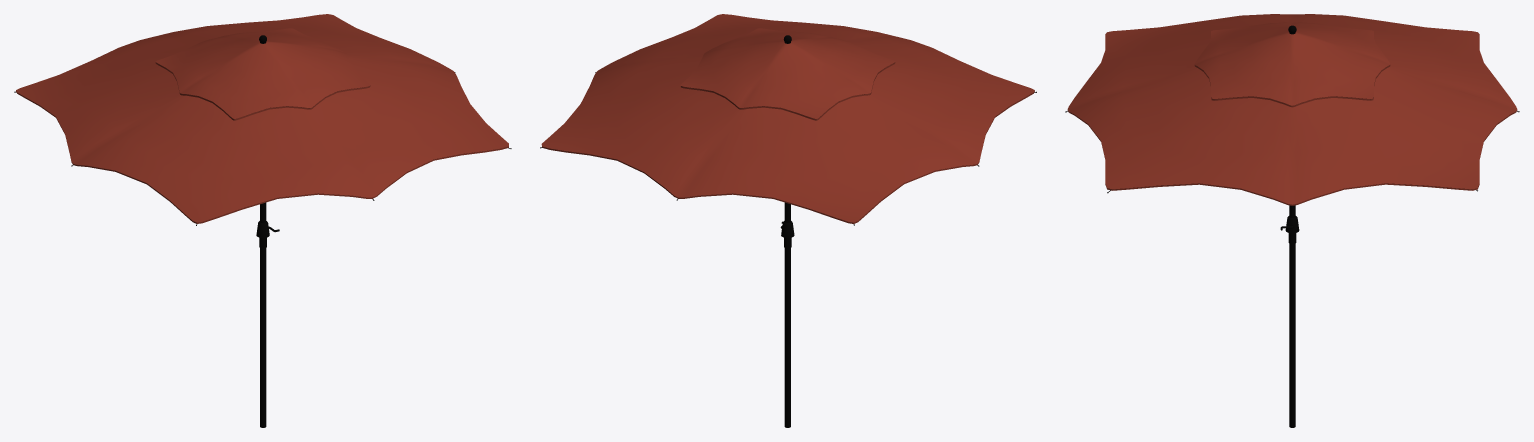
Rendered from guarda_sol.fbx.
The picture shows the model from 3 angles, left to right: view 1: azimuth 30°, elevation 25°; view 2: azimuth 150°, elevation 25°; view 3: azimuth 270°, elevation 25°; orthographic projection. The views are drawn at different scales.
Parts seen in each view (by area): view 1: Umbrella_Shape; view 2: Umbrella_Shape; view 3: Umbrella_Shape.
Boxes of the visible parts, left/top/right/bottom form: Umbrella_Shape: left=14, top=14, right=511, bottom=427; Umbrella_Shape: left=540, top=14, right=1036, bottom=427; Umbrella_Shape: left=1065, top=14, right=1519, bottom=427.
Size of the model in its own units: 241 by 234 by 241.
